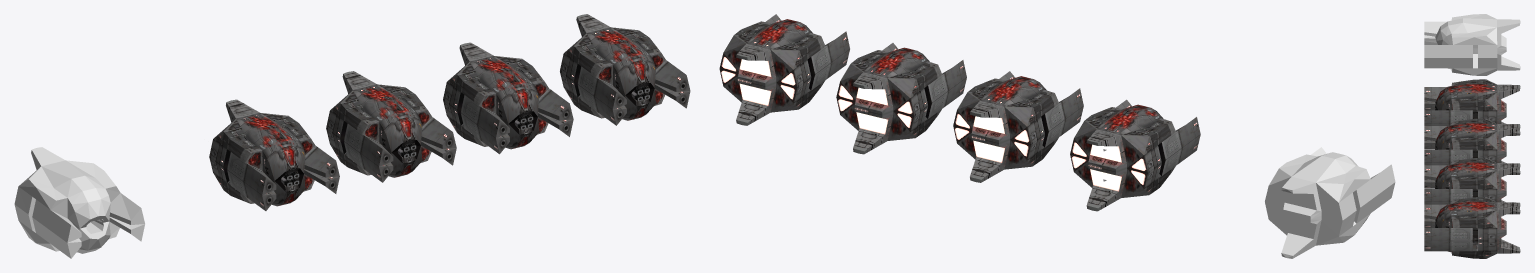
File: hgn_bst_acv.dae
3 views of the same model, side by side, from view 1: azimuth 30°, elevation 25°; view 2: azimuth 150°, elevation 25°; view 3: azimuth 270°, elevation 25° (orthographic). The views are drawn at different scales.
Visible parts, largest first — view 1: COL[Root], MULT[root_mesh]_LOD[0], MULT[root_mesh]_LOD[1], MULT[root_mesh]_LOD[3], MULT[root_mesh]_LOD[2]; view 2: COL[Root], MULT[root_mesh]_LOD[2], MULT[root_mesh]_LOD[1], MULT[root_mesh]_LOD[3], MULT[root_mesh]_LOD[0]; view 3: COL[Root], MULT[root_mesh]_LOD[3], MULT[root_mesh]_LOD[2], MULT[root_mesh]_LOD[1], MULT[root_mesh]_LOD[0].
Boxes of the visible parts, x1,y1,x2,y2 form: COL[Root]: (14,147,144,258); MULT[root_mesh]_LOD[0]: (209,99,339,210); MULT[root_mesh]_LOD[1]: (326,71,456,182); MULT[root_mesh]_LOD[3]: (560,14,690,125); MULT[root_mesh]_LOD[2]: (443,42,573,154); COL[Root]: (1265,147,1395,258); MULT[root_mesh]_LOD[2]: (836,43,966,154); MULT[root_mesh]_LOD[1]: (953,71,1083,182); MULT[root_mesh]_LOD[3]: (719,14,849,125); MULT[root_mesh]_LOD[0]: (1070,99,1200,211); COL[Root]: (1424,14,1520,75); MULT[root_mesh]_LOD[3]: (1424,197,1520,258); MULT[root_mesh]_LOD[2]: (1424,157,1520,214); MULT[root_mesh]_LOD[1]: (1424,118,1520,174); MULT[root_mesh]_LOD[0]: (1424,79,1520,135).
Size of the model in its own units: 151 by 16.48 by 29.24.
Materials: 15 (15 with a texture image).
